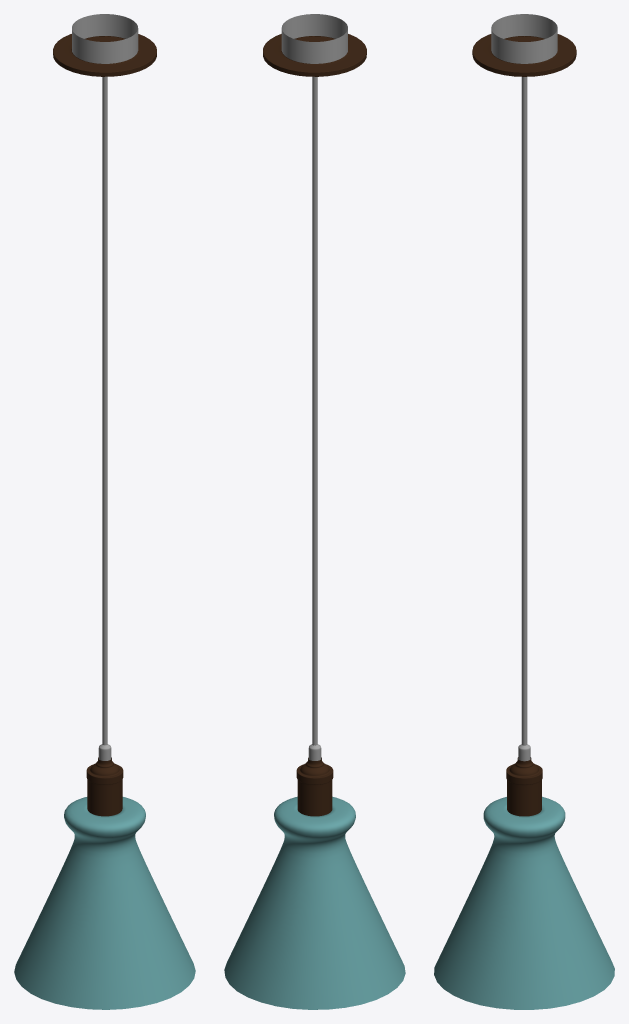
File: Campanella SP1.obj
3 renders of one model, left to right at view 1: azimuth 30°, elevation 25°; view 2: azimuth 150°, elevation 25°; view 3: azimuth 270°, elevation 25°, orthographic.
Visible parts, largest first — view 1: Cylinder.003_Cylinder.025, Cylinder.001_Cylinder.004, Metal_Bronza.001_Cylinder.034; view 2: Cylinder.003_Cylinder.025, Cylinder.001_Cylinder.004, Metal_Bronza.001_Cylinder.034; view 3: Cylinder.003_Cylinder.025, Cylinder.001_Cylinder.004, Metal_Bronza.001_Cylinder.034.
Part boxes in pixels (x1,y1,x2,y2): Cylinder.003_Cylinder.025: [14, 797, 195, 1009]; Cylinder.001_Cylinder.004: [72, 14, 138, 760]; Metal_Bronza.001_Cylinder.034: [53, 34, 156, 816]; Cylinder.003_Cylinder.025: [224, 796, 405, 1009]; Cylinder.001_Cylinder.004: [281, 14, 347, 760]; Metal_Bronza.001_Cylinder.034: [263, 34, 366, 816]; Cylinder.003_Cylinder.025: [434, 796, 614, 1009]; Cylinder.001_Cylinder.004: [491, 14, 557, 761]; Metal_Bronza.001_Cylinder.034: [472, 34, 576, 816].
Size of the model in its own units: 0.1997 by 1.15 by 0.1997.
